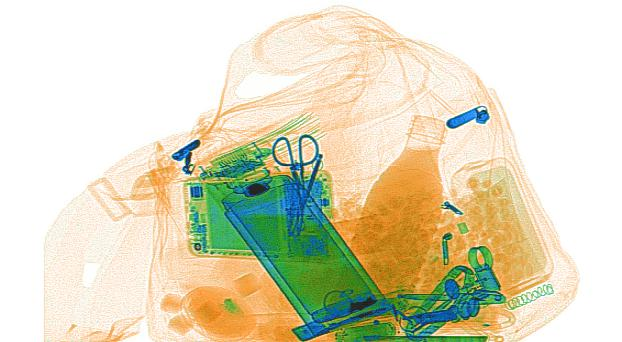battery: (337, 321, 396, 340)
